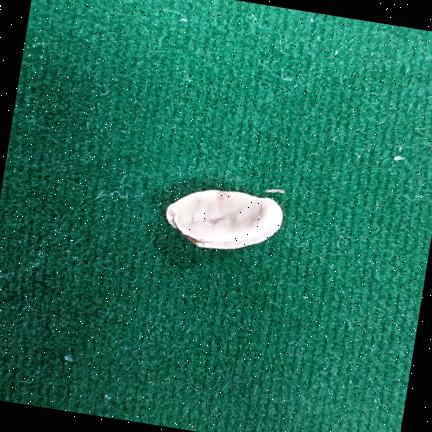shell: (166, 190, 283, 249)
